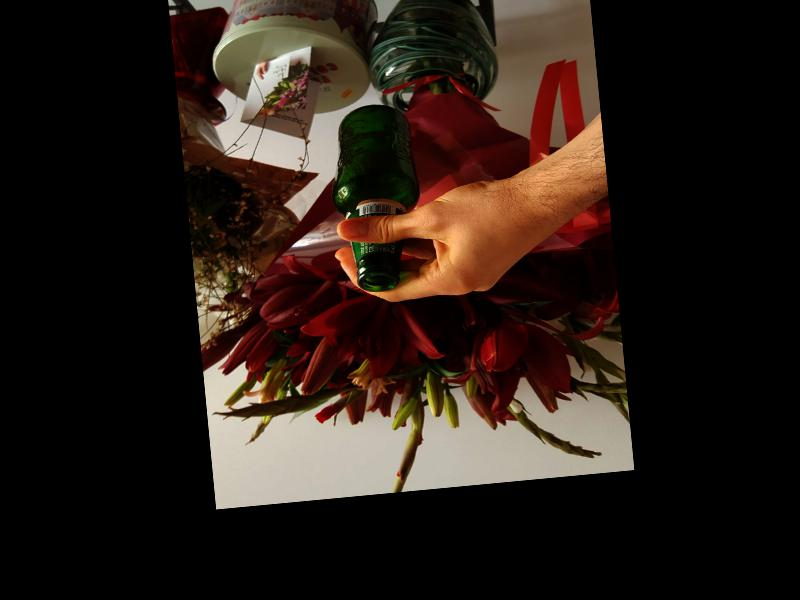Beer: (324, 101, 425, 293)
